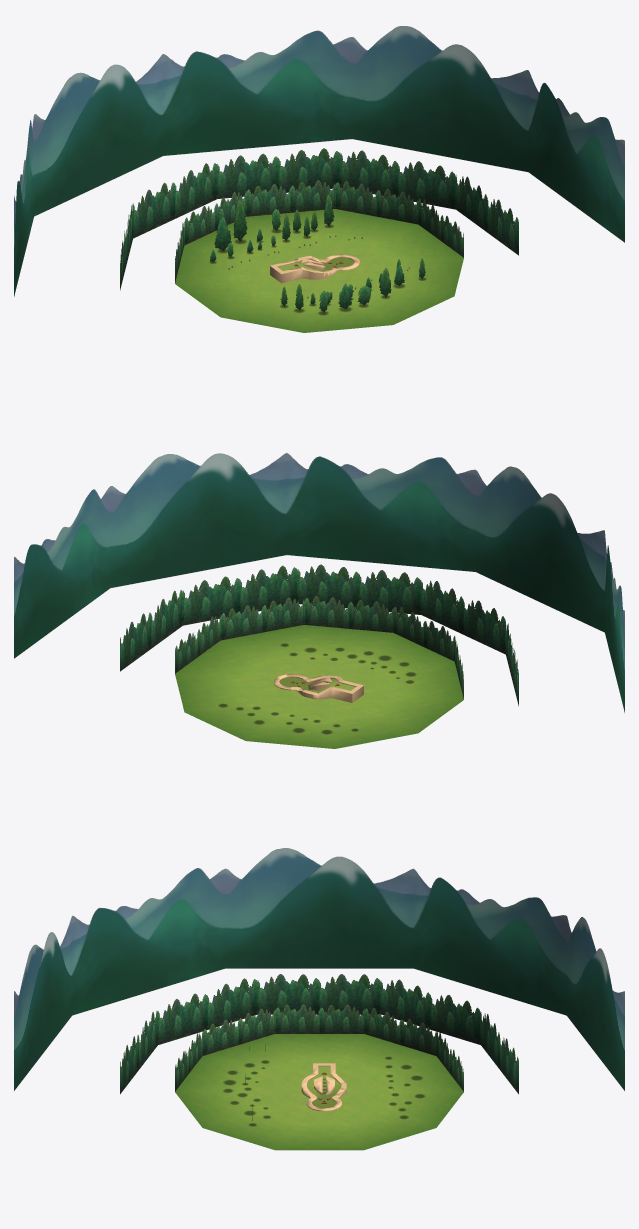
The model's file is hole12.glb.
3 views of the same model, one above another, from view 1: azimuth 30°, elevation 25°; view 2: azimuth 150°, elevation 25°; view 3: azimuth 270°, elevation 25° (orthographic). The views are drawn at different scales.
Parts seen in each view (by area): view 1: background1, grass_base, background3, background2, edges1; view 2: background1, grass_base, background3, background2, edges1; view 3: background1, grass_base, background3, background2, edges1, grass1.
Part boxes in pixels (x1,y1,x2,y2): background1: (14,26,624,296); grass_base: (175,209,463,332); background3: (120,148,518,290); background2: (175,180,463,282); edges1: (270,254,359,283); background1: (14,453,624,712); grass_base: (175,625,463,748); background3: (120,564,518,706); background2: (175,596,463,698); edges1: (274,674,363,702); background1: (14,848,624,1090); grass_base: (175,1034,463,1150); background3: (120,974,518,1094); background2: (175,1004,463,1091); edges1: (301,1063,346,1111); grass1: (307,1066,341,1108).
Size of what is drawn, in the model's own units: 330 by 78.81 by 347.
Materials: 10 (9 with a texture image).
